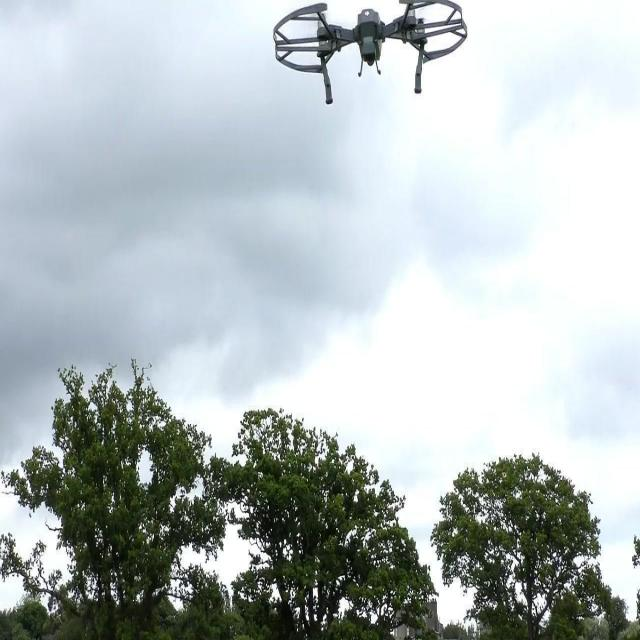UAV: (272, 0, 468, 105)
